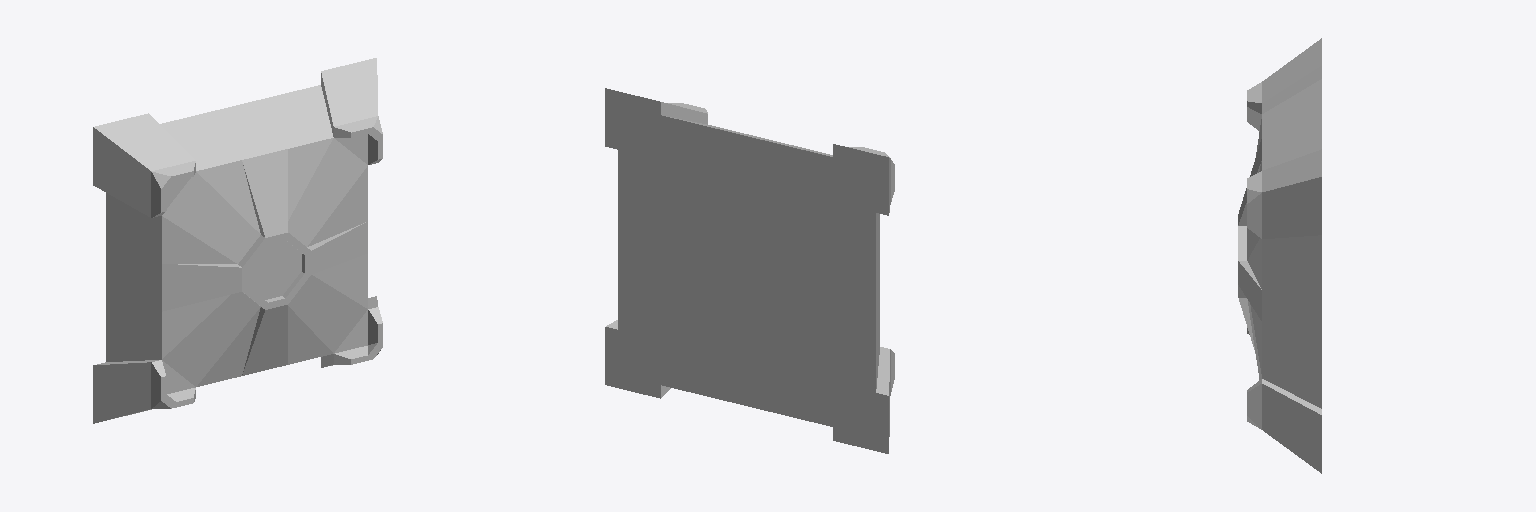
3 renders of one model, left to right at view 1: azimuth 30°, elevation 25°; view 2: azimuth 150°, elevation 25°; view 3: azimuth 270°, elevation 25°, orthographic.
Parts seen in each view (by area): view 1: cube1; view 2: cube1; view 3: cube1.
Part boxes in pixels (left/top/right/bottom): cube1: left=93, top=58, right=382, bottom=423; cube1: left=605, top=88, right=894, bottom=453; cube1: left=1238, top=38, right=1321, bottom=473.
Size of the model in its own units: 5.5 by 5.5 by 1.4.